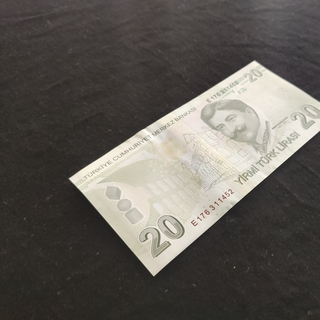20TLBack: (67, 60, 320, 277)
